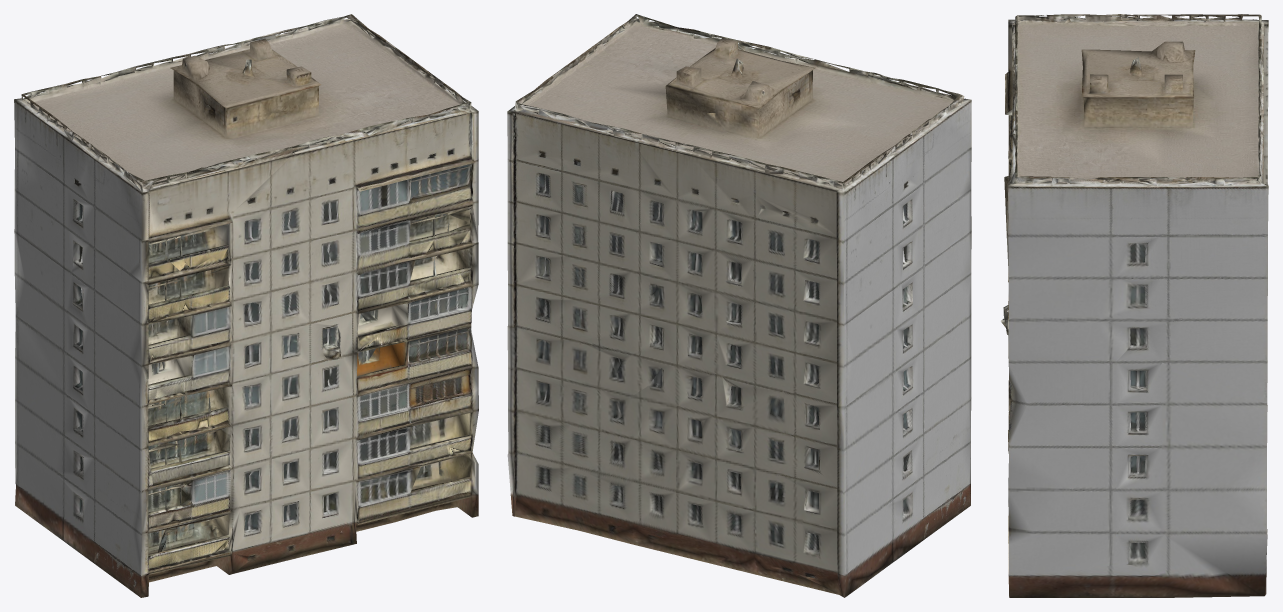
Rendered from tripo_convert_bf86d584-49de-4696-8dff-eeb6e7afe4e7.glb.
The picture shows the model from 3 angles, left to right: view 1: azimuth 30°, elevation 25°; view 2: azimuth 150°, elevation 25°; view 3: azimuth 270°, elevation 25°; orthographic projection.
Visible parts, largest first — view 1: tripo_node_bf86d584-49de-4696-8dff-eeb6e7afe4e7; view 2: tripo_node_bf86d584-49de-4696-8dff-eeb6e7afe4e7; view 3: tripo_node_bf86d584-49de-4696-8dff-eeb6e7afe4e7.
Boxes of the visible parts, x1=… form: tripo_node_bf86d584-49de-4696-8dff-eeb6e7afe4e7: x1=14, y1=14, x2=478, y2=597; tripo_node_bf86d584-49de-4696-8dff-eeb6e7afe4e7: x1=507, y1=14, x2=971, y2=597; tripo_node_bf86d584-49de-4696-8dff-eeb6e7afe4e7: x1=1000, y1=14, x2=1268, y2=597.
Bounding box in the file's own units: 0.749 × 0.9533 × 0.5067.
Materials: 1 (1 with a texture image).
